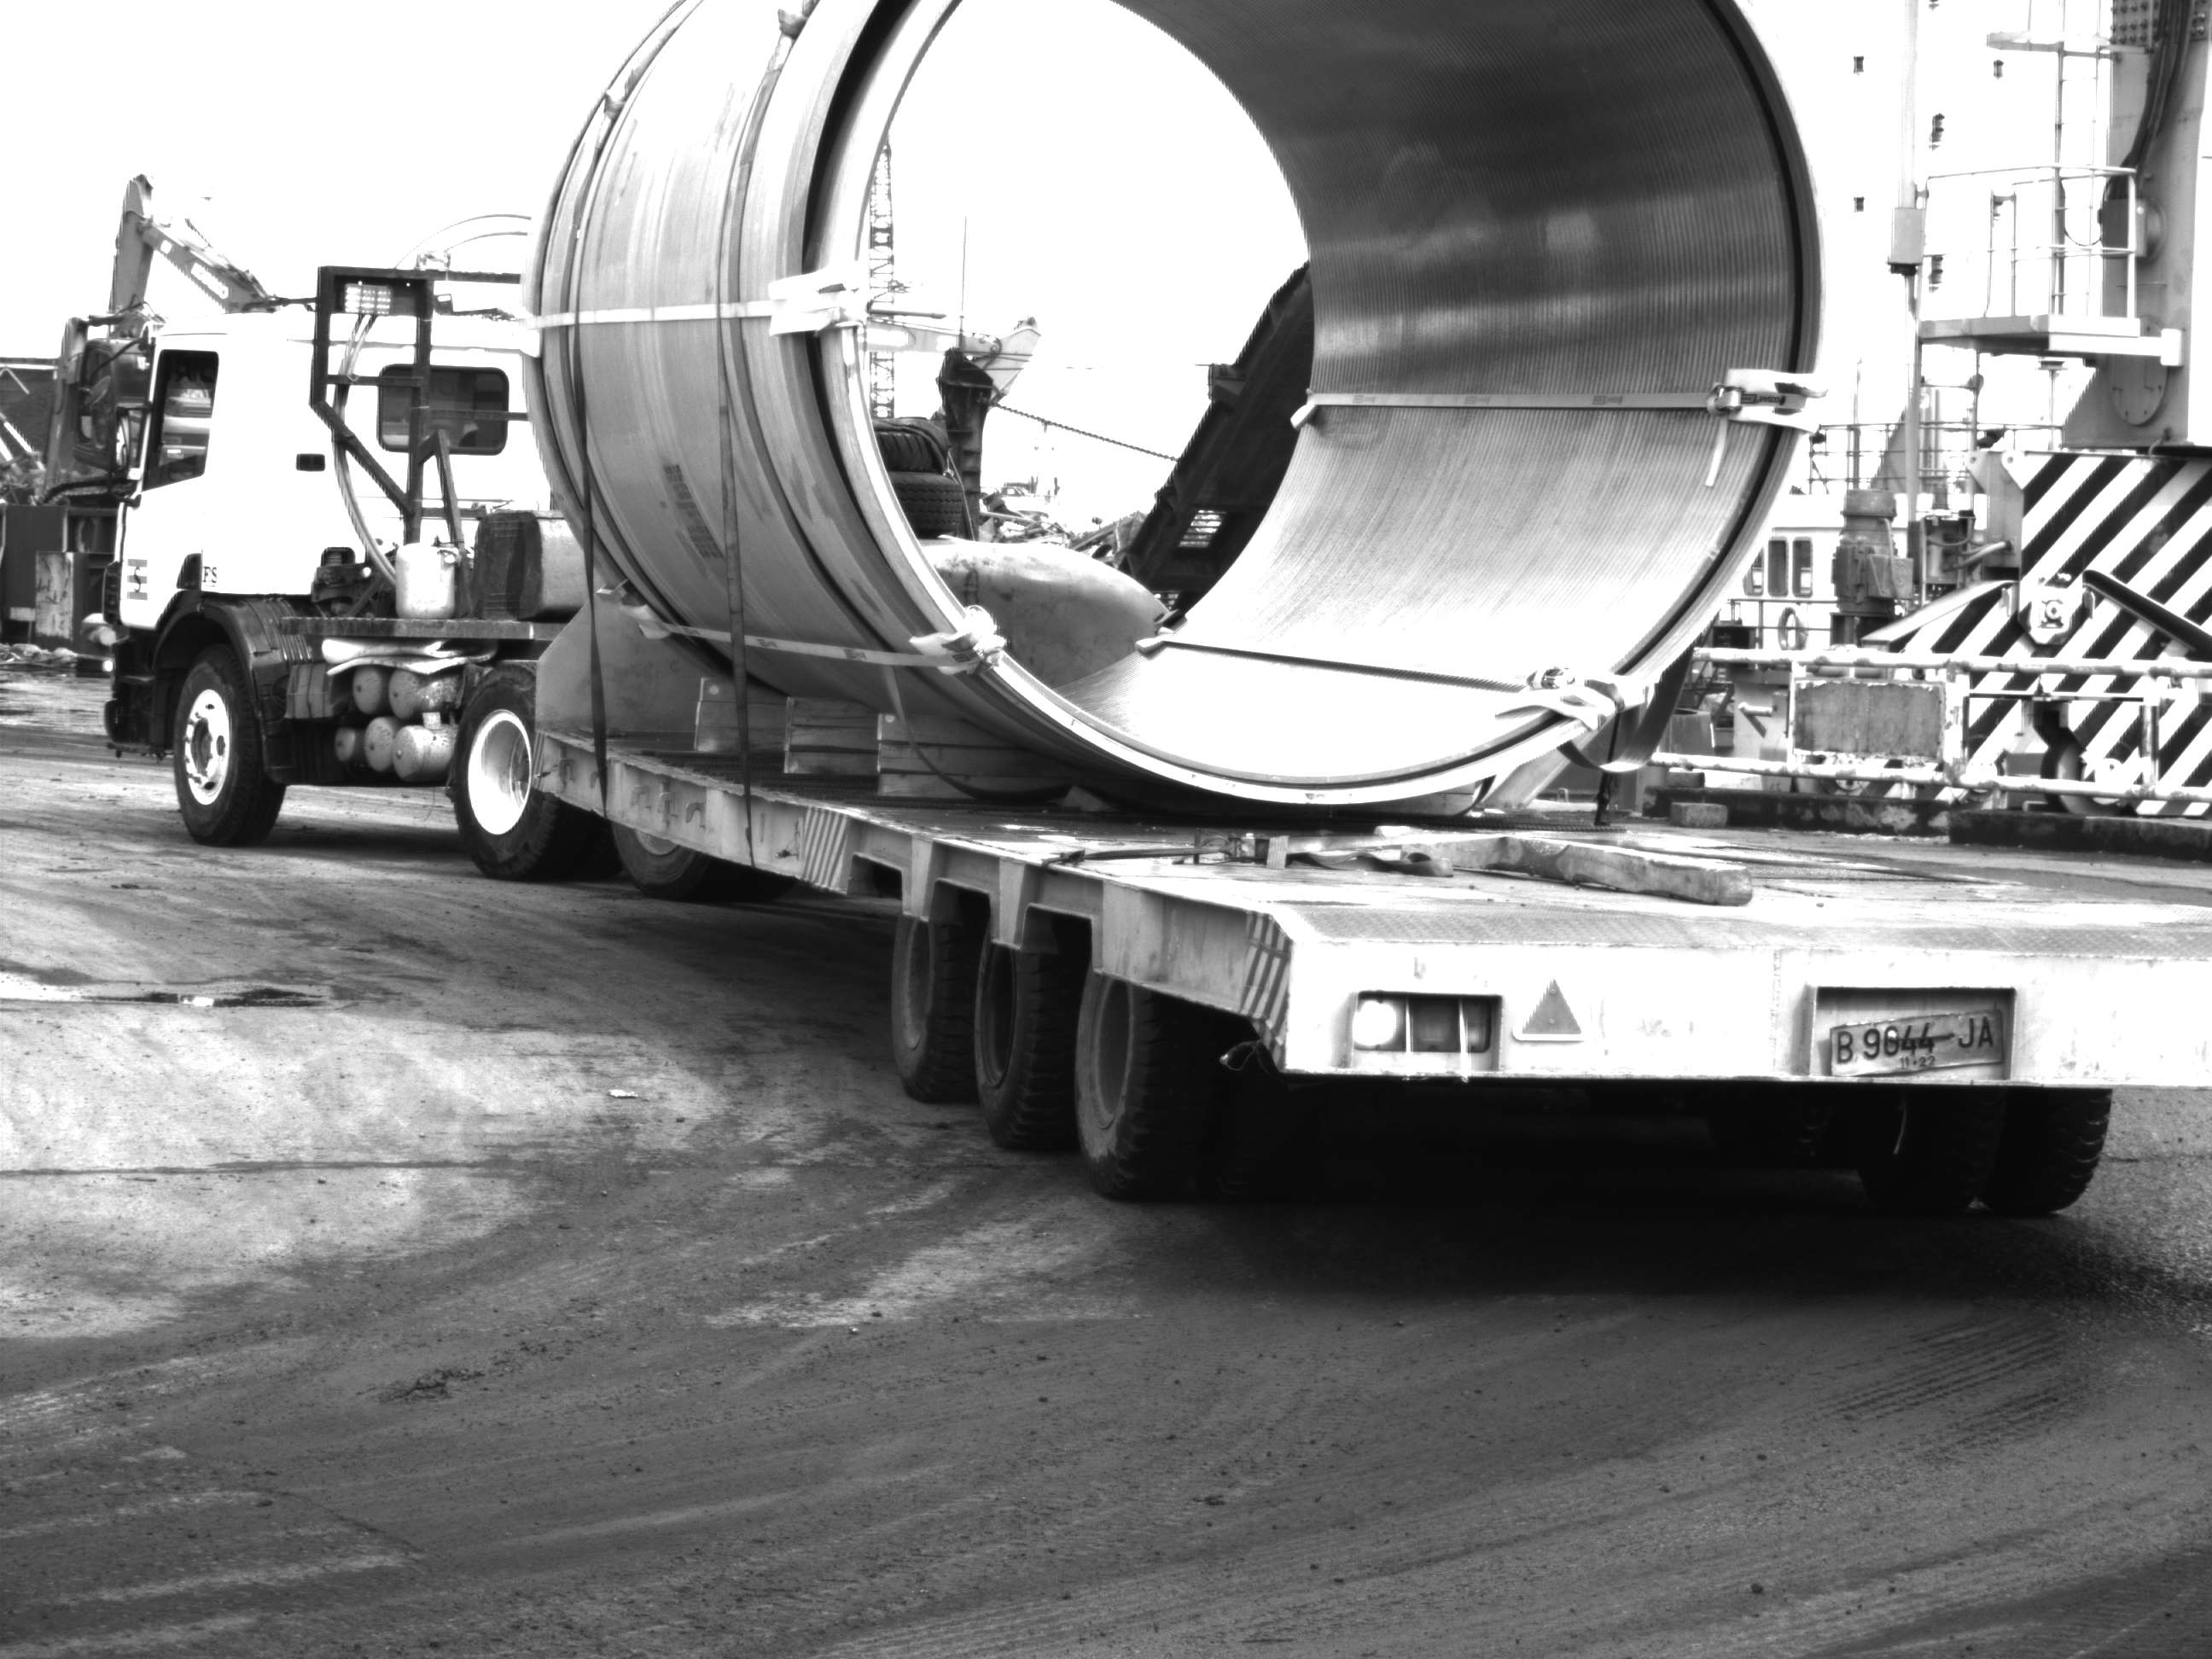day_truck_rear: (1074, 777, 2212, 1254)
plate: (1821, 1006, 2008, 1083)
